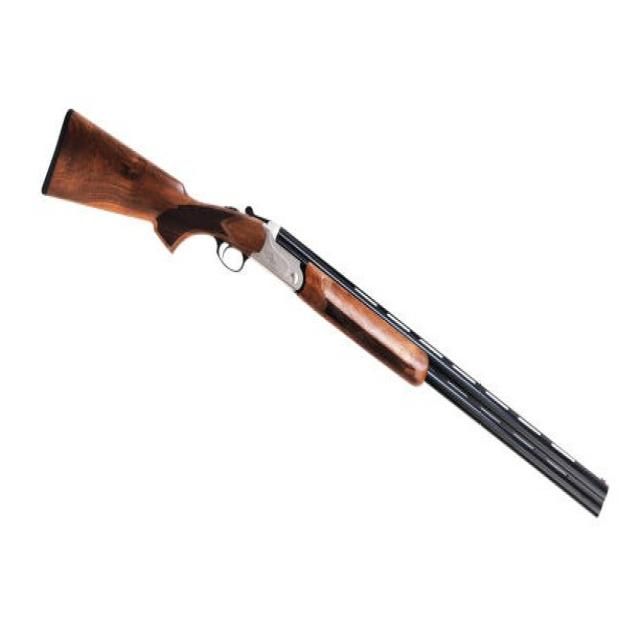rifle: (37, 108, 617, 528)
